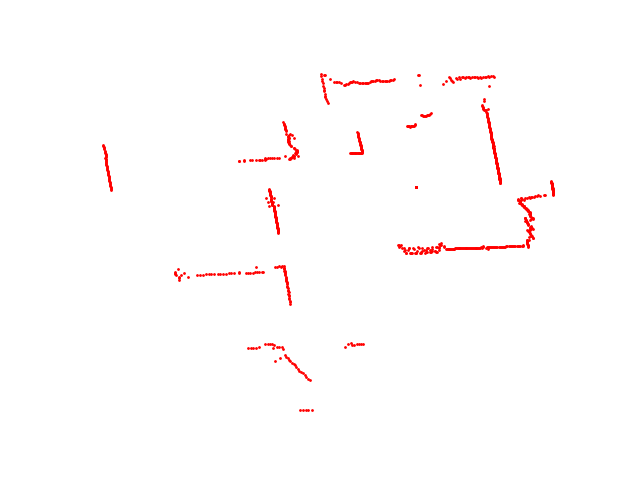person: (404, 111, 435, 130)
